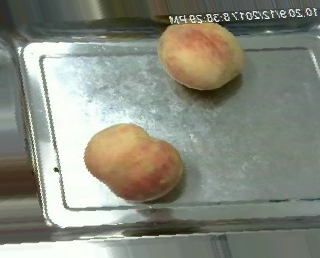Peach: (83, 122, 182, 200), (156, 17, 243, 90)
